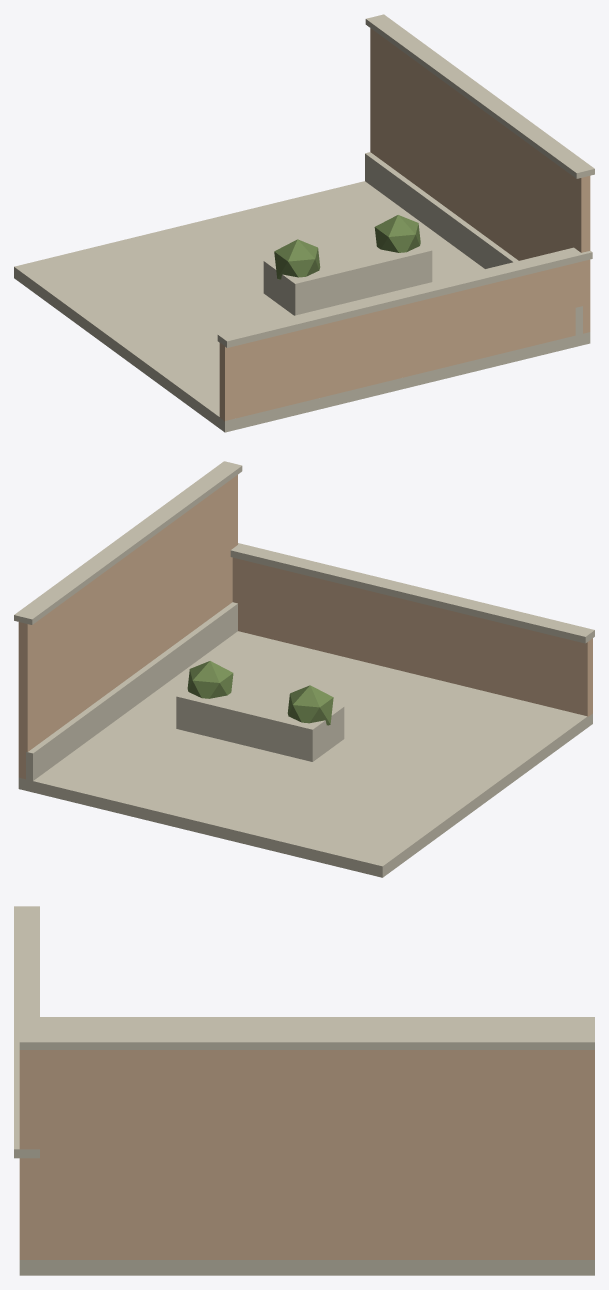
Rendered from district-2-2-2.glb.
The picture shows the model from 3 angles, top to bottom: view 1: azimuth 30°, elevation 25°; view 2: azimuth 150°, elevation 25°; view 3: azimuth 270°, elevation 25°; orthographic projection. The views are drawn at different scales.
Parts seen in each view (by area): view 1: stone.026, plaster.023, leaf.008; view 2: stone.026, plaster.023, leaf.008; view 3: plaster.023, stone.026.
Boxes of the visible parts, box(x1,y1,x2,y2) form: stone.026: box(14, 14, 594, 432); plaster.023: box(219, 28, 590, 421); leaf.008: box(274, 215, 420, 279); stone.026: box(14, 461, 594, 877); plaster.023: box(18, 475, 592, 779); leaf.008: box(187, 661, 333, 725); plaster.023: box(19, 1050, 594, 1259); stone.026: box(14, 906, 594, 1275).
Size of the model in its own units: 8.1 by 3.63 by 8.08.
